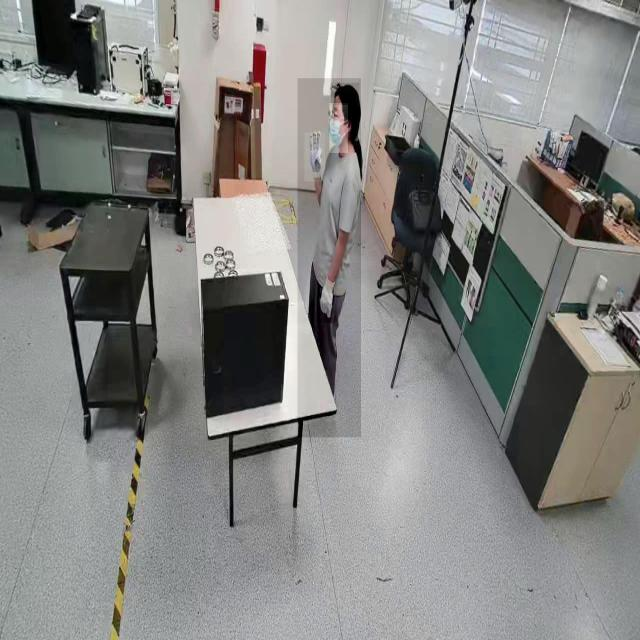face_mask: (330, 103, 348, 153)
hand_glove: (317, 276, 338, 324), (305, 132, 325, 182)
head_nohelmet: (331, 82, 360, 106)
person: (298, 78, 362, 438)
